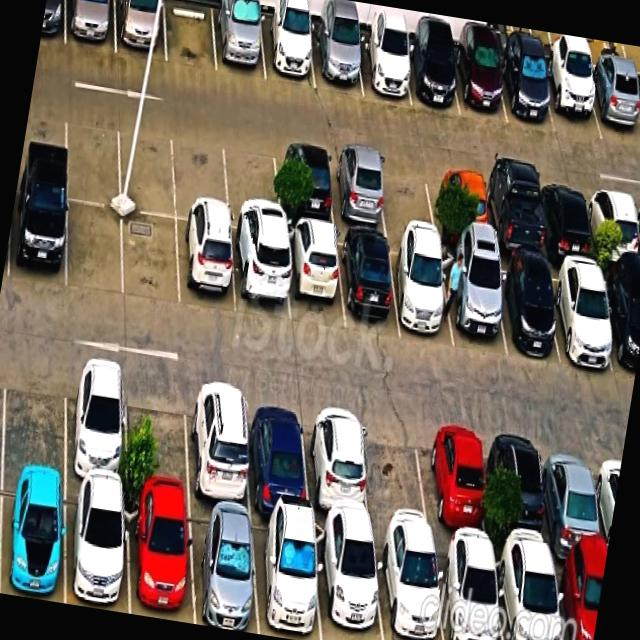empty: (359, 409, 433, 539), (127, 369, 190, 501), (3, 351, 65, 478), (223, 134, 281, 236), (118, 117, 176, 218), (174, 126, 229, 226), (123, 211, 179, 308), (66, 107, 120, 207), (67, 201, 123, 297), (377, 156, 437, 238), (165, 0, 217, 72)
occupied: (188, 504, 259, 634), (422, 416, 489, 549), (126, 494, 194, 624), (303, 401, 371, 530), (252, 514, 321, 640), (187, 379, 251, 511), (0, 475, 66, 603), (542, 434, 606, 563), (246, 389, 310, 518), (66, 483, 129, 614), (66, 358, 127, 490), (315, 523, 383, 640), (492, 426, 552, 556), (547, 261, 615, 370), (374, 535, 444, 640), (440, 250, 507, 356), (491, 257, 559, 359), (389, 240, 453, 347), (434, 541, 503, 640), (337, 232, 400, 336), (284, 224, 344, 330), (494, 549, 562, 640), (9, 187, 67, 289), (177, 220, 236, 315), (231, 230, 290, 323), (481, 172, 544, 259), (275, 142, 335, 227), (430, 165, 490, 248), (329, 149, 388, 232), (541, 60, 602, 140), (537, 179, 595, 261), (499, 50, 555, 132), (552, 557, 606, 640), (600, 267, 640, 379), (586, 185, 640, 267), (585, 66, 640, 146), (453, 44, 507, 123), (403, 40, 459, 114), (260, 14, 315, 88), (355, 33, 411, 105), (213, 5, 265, 81), (311, 25, 362, 95), (115, 0, 166, 61), (65, 0, 116, 53)
